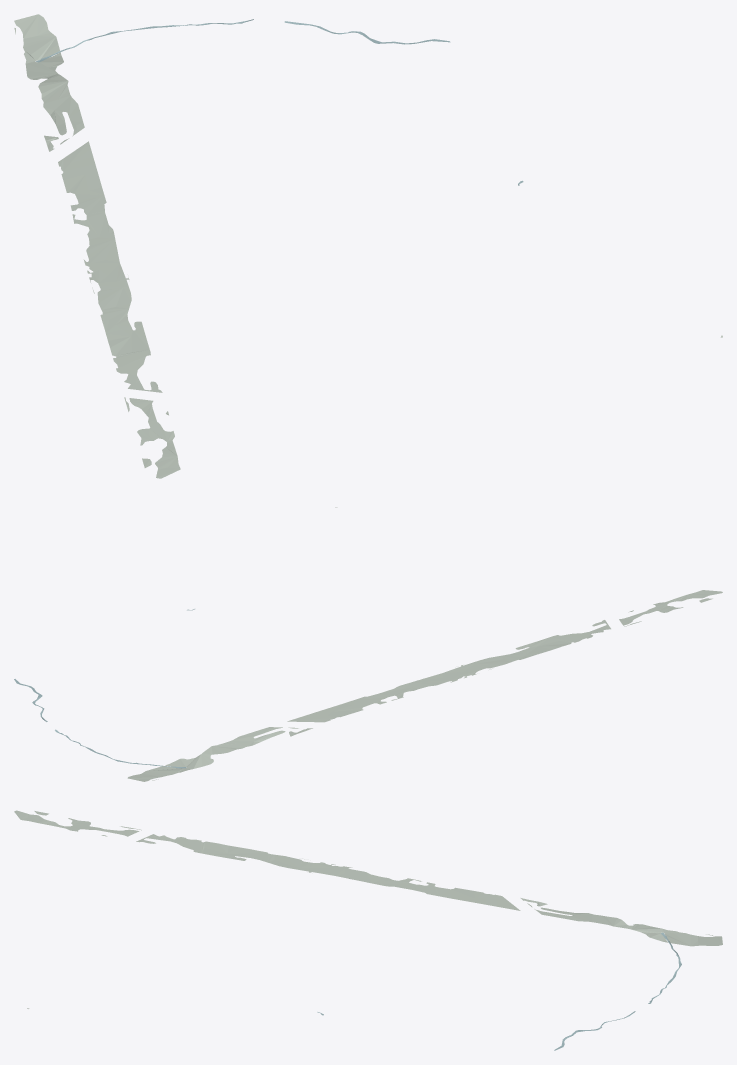
The model's file is lorne-park-context-05.glb.
The picture shows the model from 3 angles, top to bottom: view 1: azimuth 30°, elevation 25°; view 2: azimuth 150°, elevation 25°; view 3: azimuth 270°, elevation 25°; orthographic projection. The views are drawn at different scales.
Visible parts, largest first — view 1: Park, River; view 2: Park; view 3: Park.
Boxes of the visible parts, x1,y1,x2,y2 form: Park: (14, 14, 722, 478); River: (35, 19, 523, 185); Park: (127, 507, 722, 781); Park: (14, 810, 722, 1008).
Size of the model in its own units: 776 by 14.78 by 1005.
